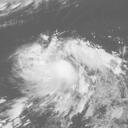cyclone: (14, 31, 104, 112)
